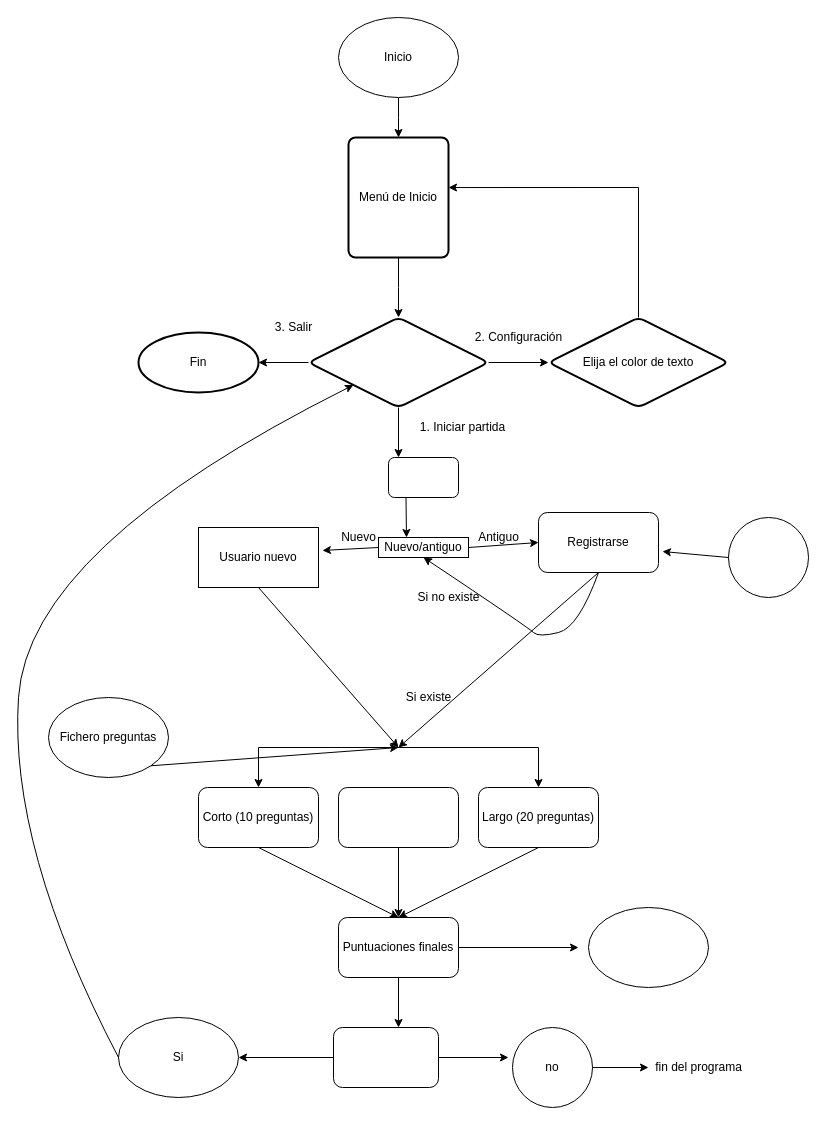
Some shapes in this 826 by 1125 pixel diagram are drawn without their labels. Here are the shapes that lost their labels. From the top down, the centre of each, then its label:
At (398,362): "¿Qué desea hacer?".
At (423,477): "N° usuarios".
At (768,557): "Fichero usuarios guardados (ficheru)".
At (398,817): "Medio (15 preguntas)".
At (648,947): "Fichero de usuarios guardados (ficheru)".
At (385,1057): "Jugar de nuevo".
